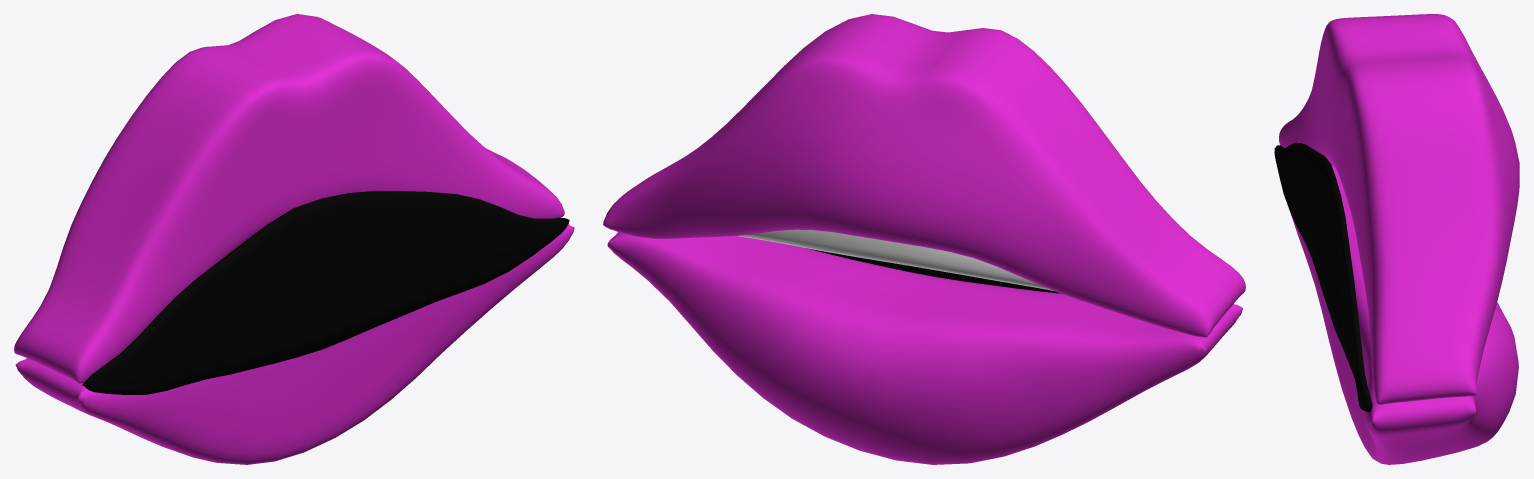
The model's file is lips FBX.glb.
3 renders of one model, left to right at view 1: azimuth 30°, elevation 25°; view 2: azimuth 150°, elevation 25°; view 3: azimuth 270°, elevation 25°, orthographic. The views are drawn at different scales.
Visible parts, largest first — view 1: Group51538, Group003, Group004; view 2: Group51538, Group004, Group002, Group003; view 3: Group51538, Group004, Group003.
Part boxes in pixels (x1=…): Group51538: x1=14, y1=14, x2=564, y2=383; Group003: x1=82, y1=191, x2=569, y2=394; Group004: x1=15, y1=224, x2=574, y2=464; Group51538: x1=603, y1=14, x2=1245, y2=337; Group004: x1=607, y1=232, x2=1242, y2=464; Group002: x1=738, y1=229, x2=1053, y2=290; Group003: x1=807, y1=248, x2=1060, y2=293; Group51538: x1=1279, y1=14, x2=1519, y2=404; Group004: x1=1291, y1=166, x2=1518, y2=464; Group003: x1=1274, y1=142, x2=1372, y2=412.
Bounding box in the file's own units: 0.6029 × 0.4072 × 0.2286.
